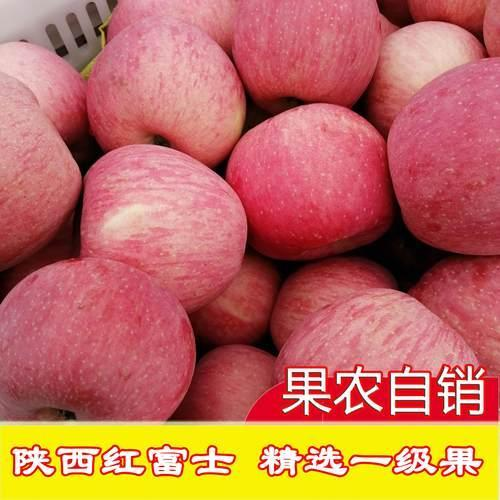apple: (1, 255, 195, 418), (79, 145, 246, 313), (225, 103, 394, 259), (84, 8, 247, 169), (387, 55, 500, 255), (273, 289, 482, 379), (232, 1, 385, 113), (1, 71, 83, 269), (367, 21, 483, 135), (270, 259, 400, 342), (412, 255, 500, 377), (174, 345, 280, 419)
